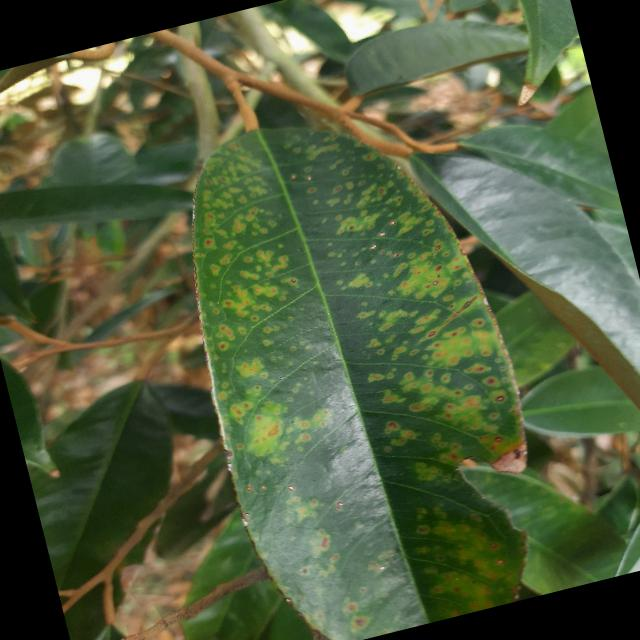Leaf Spot: (133, 59, 582, 639)
